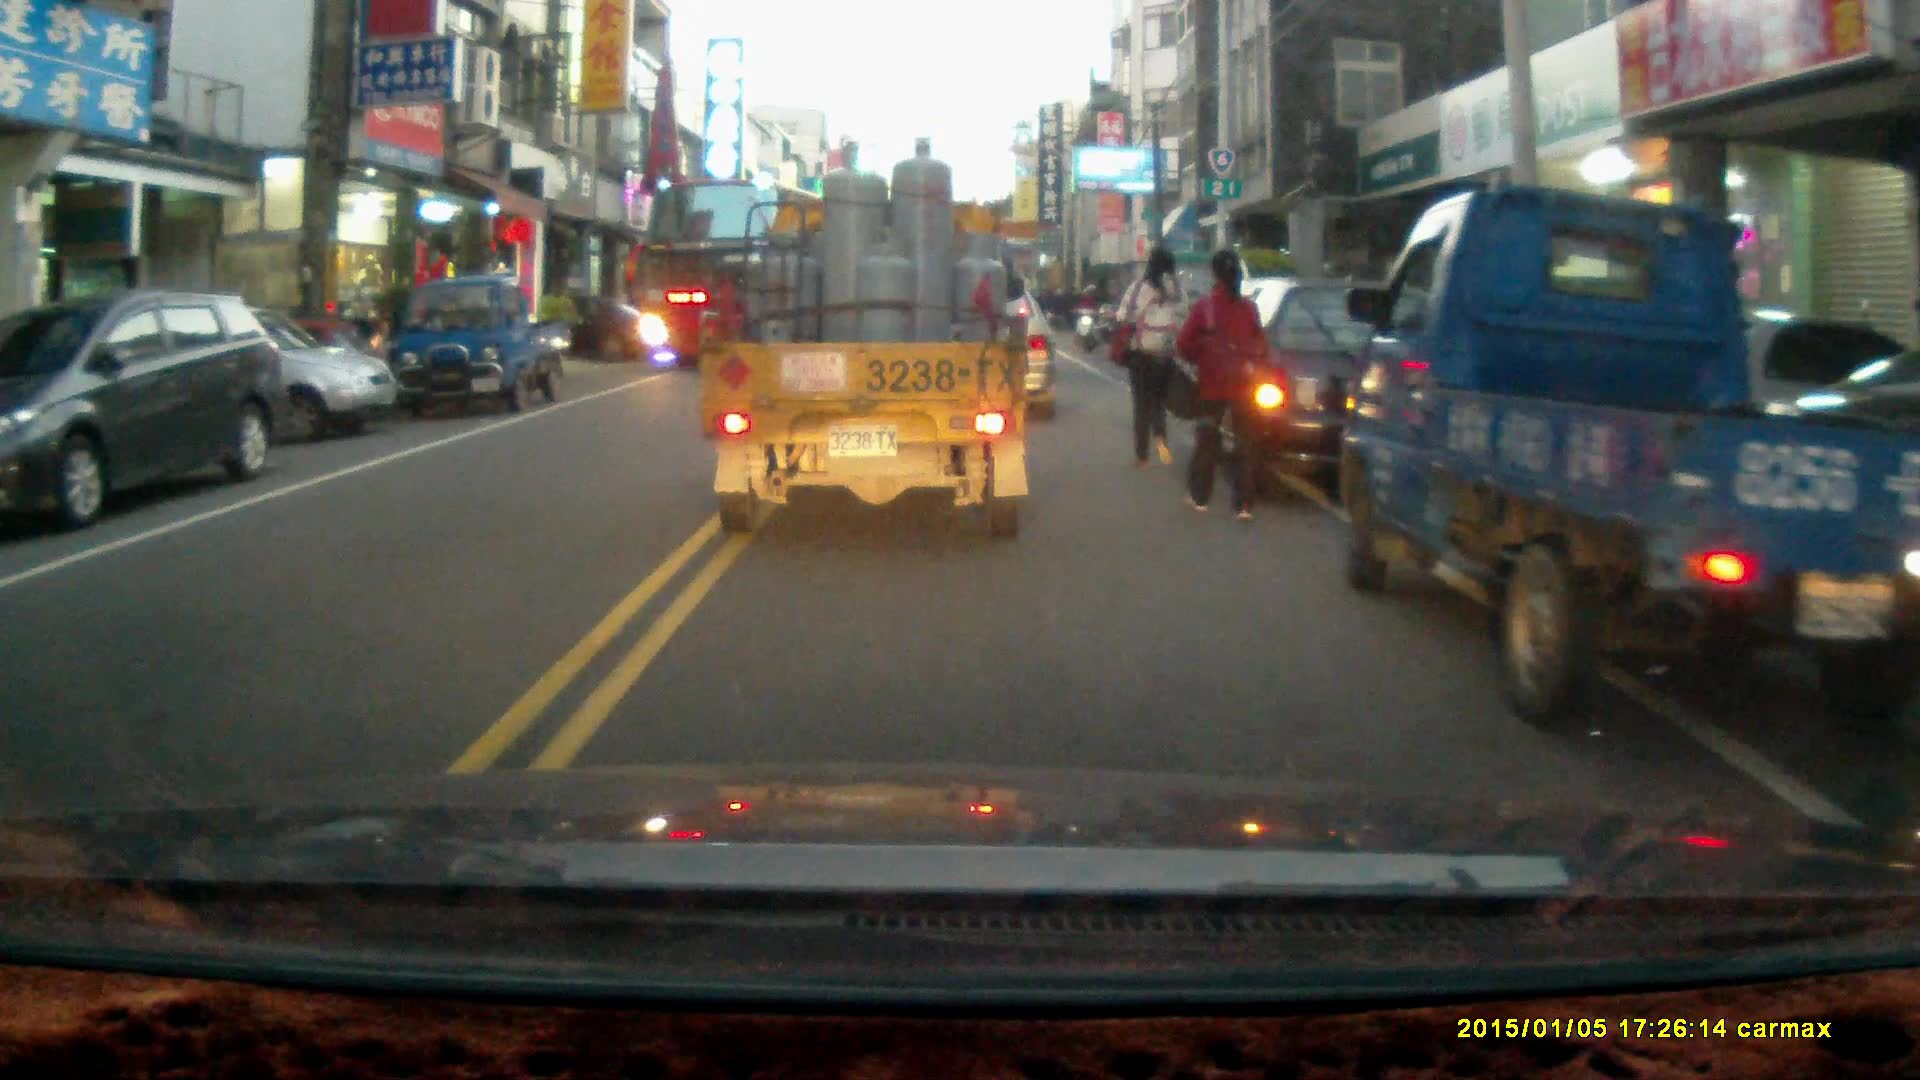pedestrian: (1172, 249, 1280, 523), (1113, 247, 1192, 476)
rider: (1074, 279, 1109, 351)
vehicle: (1343, 180, 1920, 739), (698, 130, 1038, 542), (1204, 277, 1498, 516), (2, 286, 284, 528), (636, 175, 874, 374), (82, 300, 404, 448), (392, 276, 564, 414)
